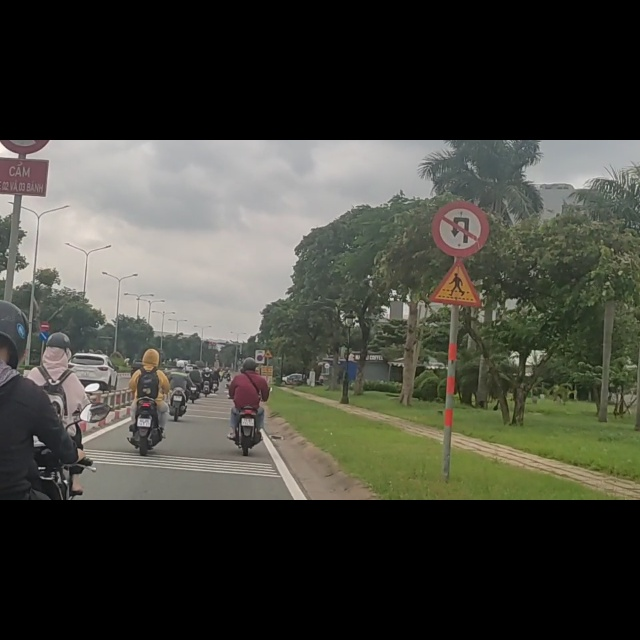bien_nguy_hiem: (432, 109, 490, 207), (431, 213, 481, 294), (40, 322, 51, 339), (39, 341, 49, 358), (257, 382, 263, 393)
